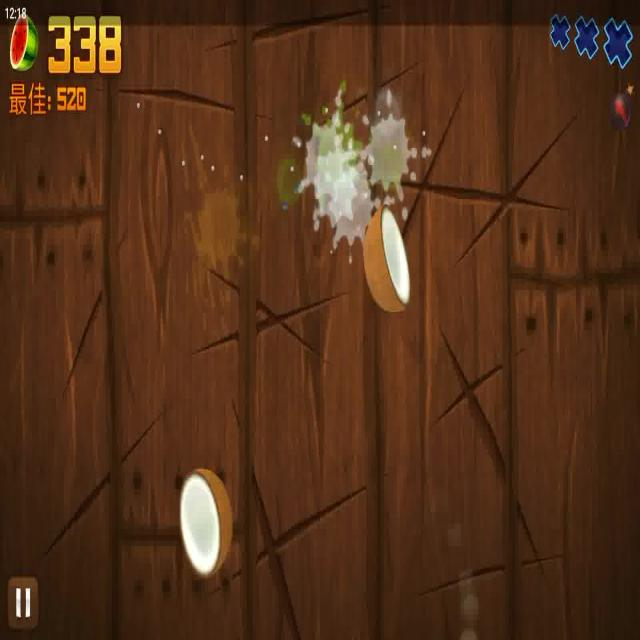fruit: (181, 464, 233, 576), (362, 202, 410, 316)
